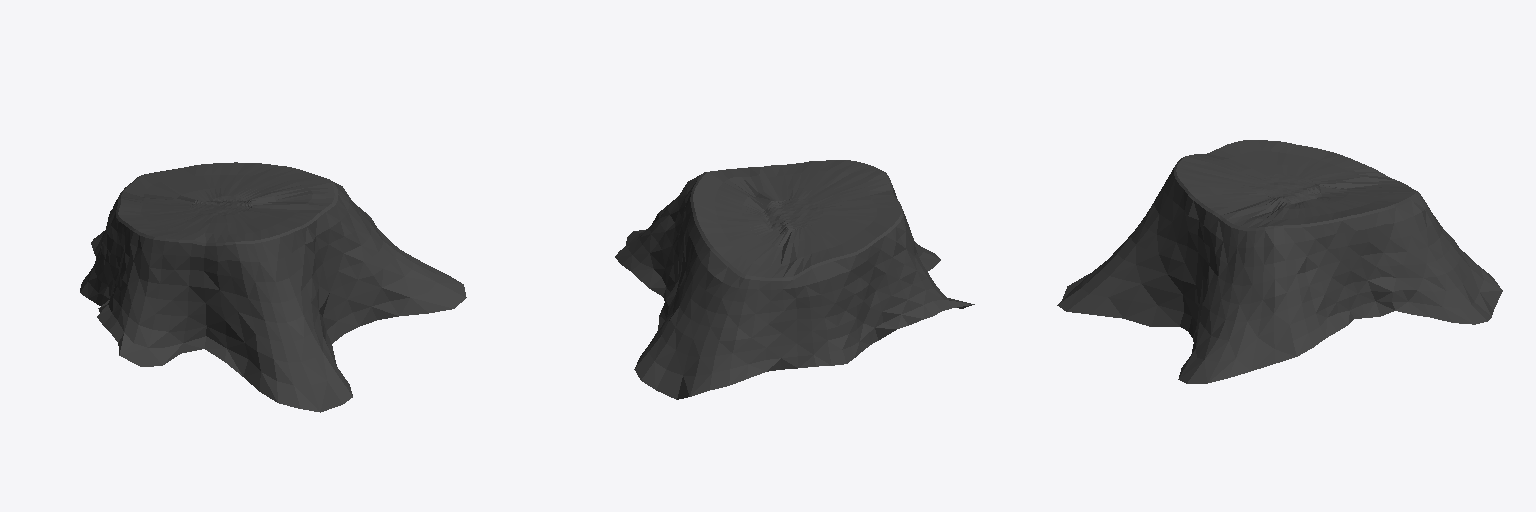
Rendered from arbol_mochado.obj.
The picture shows the model from 3 angles: view 1: azimuth 30°, elevation 25°; view 2: azimuth 150°, elevation 25°; view 3: azimuth 270°, elevation 25°; orthographic projection.
Parts seen in each view (by area): view 1: 02; view 2: 02; view 3: 02.
Boxes of the visible parts, <box> form: 02: <box>80,162,466,412</box>; 02: <box>615,160,974,399</box>; 02: <box>1057,140,1502,383</box>.
Size of the model in its own units: 7.76 by 2.85 by 8.73.